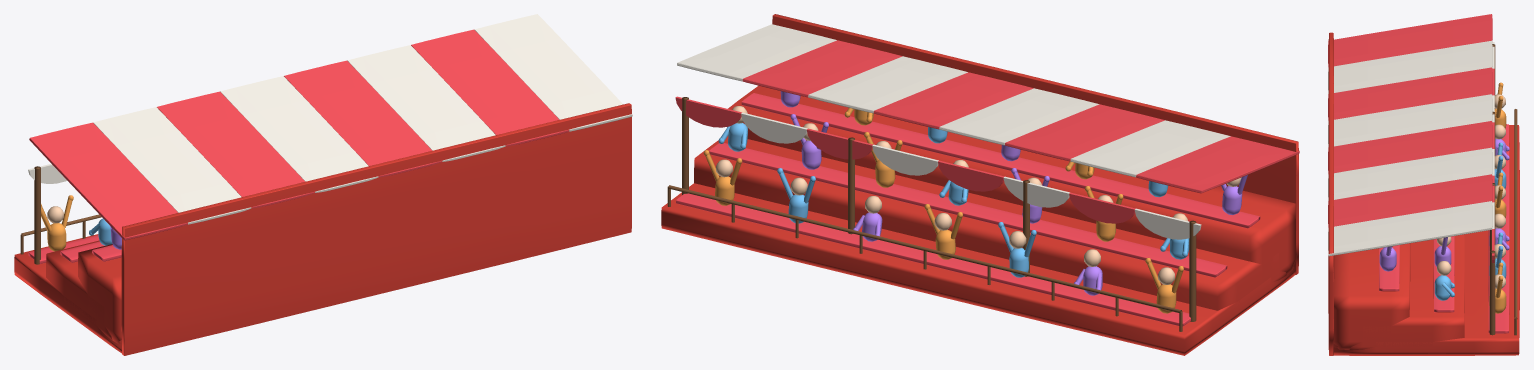
The model's file is MechaMarathonStand.obj.
3 renders of one model, left to right at view 1: azimuth 30°, elevation 25°; view 2: azimuth 150°, elevation 25°; view 3: azimuth 270°, elevation 25°, orthographic. The views are drawn at different scales.
Visible parts, largest first — view 1: Frame, AwningB, AwningA, Seats, Rail, FansA; view 2: Frame, AwningA, AwningB, Seats, Rail, FansA, FansB, FansC, Heads; view 3: Frame, AwningB, AwningA, Seats, Rail, Heads, FansC, FansA, FansB.
Part boxes in pixels (x1=…): Frame: x1=14, y1=103, x2=631, y2=355; AwningB: x1=28, y1=14, x2=632, y2=224; AwningA: x1=29, y1=29, x2=568, y2=240; Seats: x1=28, y1=235, x2=121, y2=263; Rail: x1=20, y1=166, x2=101, y2=264; FansA: x1=41, y1=195, x2=73, y2=251; Frame: x1=661, y1=14, x2=1298, y2=355; AwningA: x1=675, y1=40, x2=1299, y2=223; AwningB: x1=677, y1=24, x2=1230, y2=239; Seats: x1=676, y1=93, x2=1260, y2=326; Rail: x1=667, y1=97, x2=1196, y2=331; FansA: x1=703, y1=108, x2=1183, y2=313; FansB: x1=718, y1=123, x2=1189, y2=277; FansC: x1=780, y1=91, x2=1247, y2=295; Heads: x1=716, y1=106, x2=1241, y2=284; Frame: x1=1328, y1=32, x2=1519, y2=355; AwningB: x1=1328, y1=40, x2=1494, y2=256; AwningA: x1=1328, y1=14, x2=1494, y2=263; Seats: x1=1378, y1=124, x2=1509, y2=333; Rail: x1=1489, y1=44, x2=1517, y2=335; Heads: x1=1392, y1=94, x2=1505, y2=288; FansC: x1=1379, y1=138, x2=1509, y2=271; FansA: x1=1489, y1=82, x2=1506, y2=313; FansB: x1=1434, y1=142, x2=1506, y2=300.
Size of the model in its own units: 24.02 by 6.76 by 9.11.
